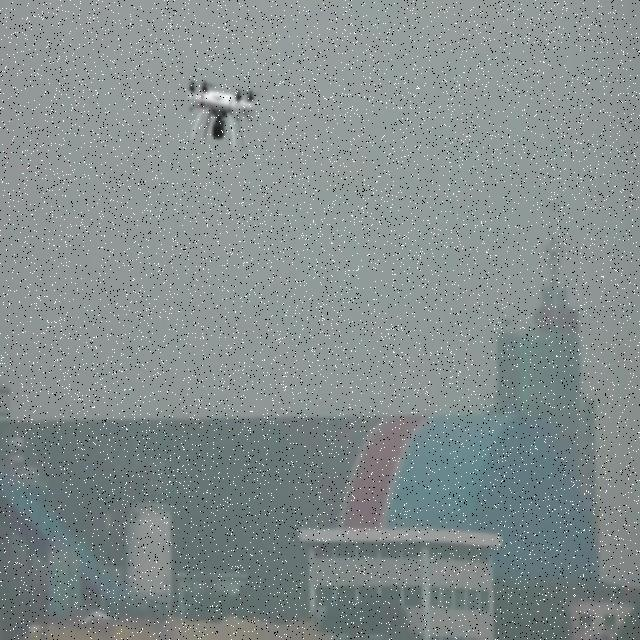UAV: (188, 78, 260, 152)
